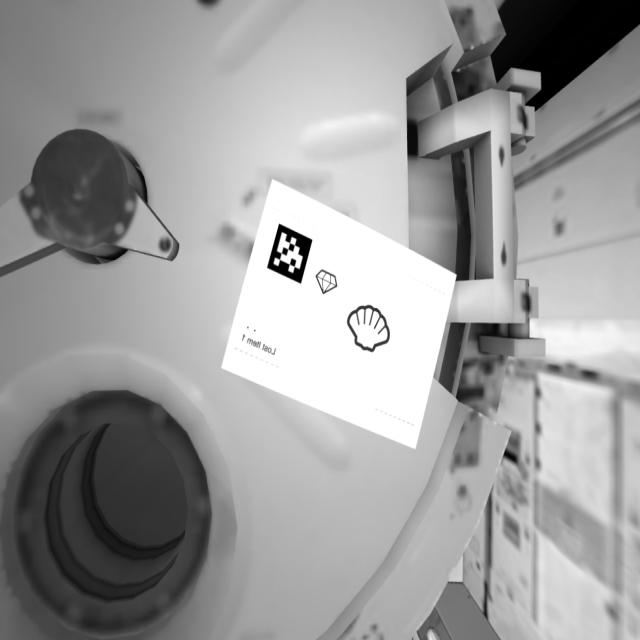diamond: (315, 268, 343, 297)
shell: (341, 291, 396, 365)
